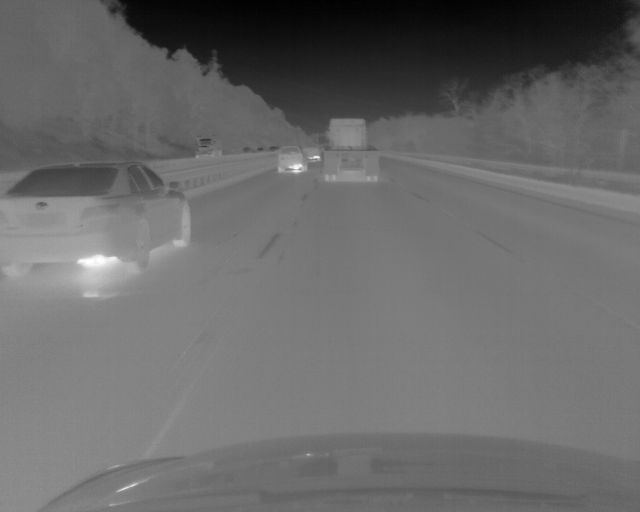car: (1, 160, 192, 281), (323, 119, 379, 182), (277, 146, 307, 172), (194, 135, 223, 158), (305, 143, 322, 161)
